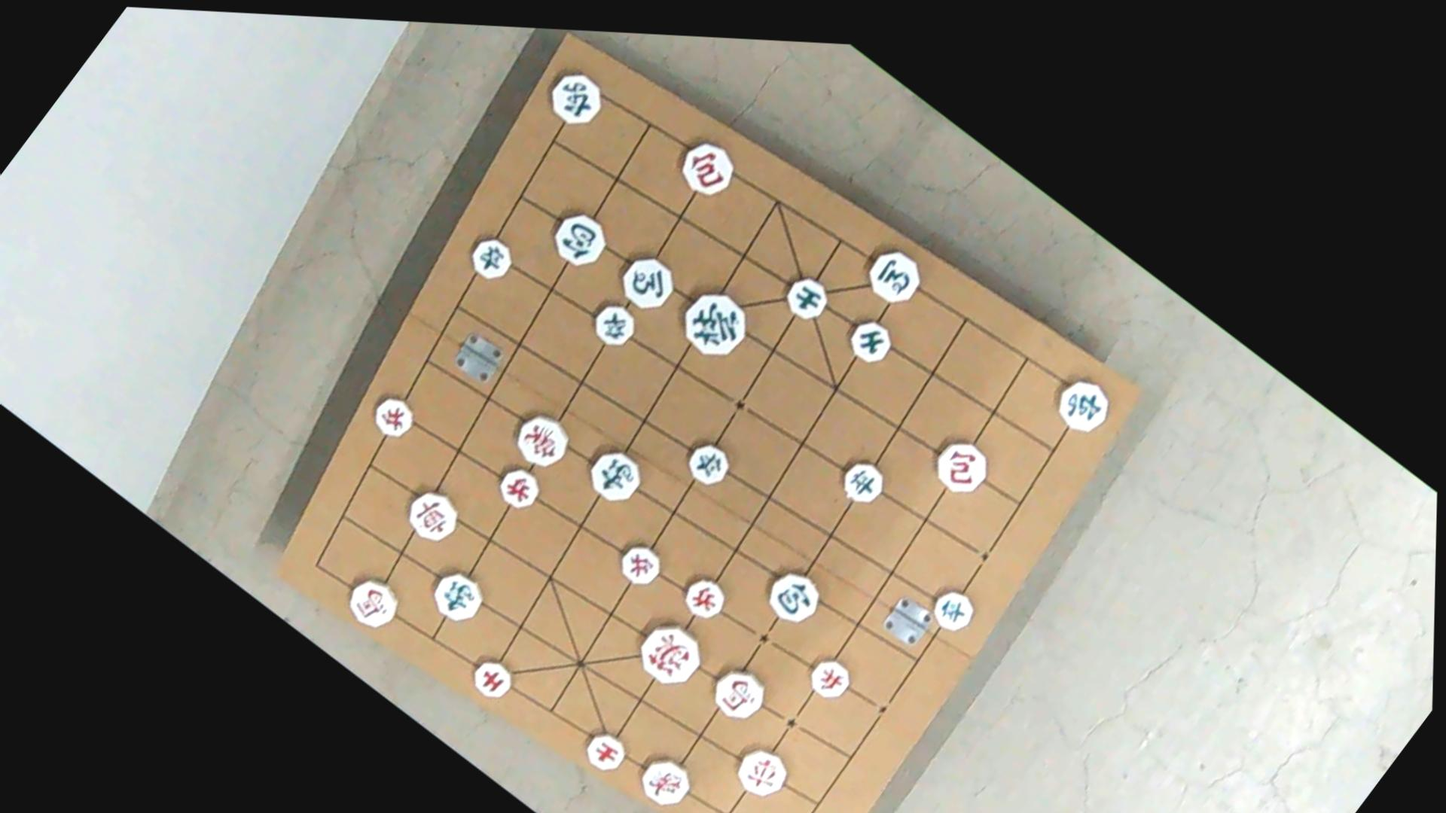cha_green: (541, 62, 611, 135), (1046, 367, 1116, 439)
cha_red: (398, 480, 466, 550), (729, 735, 794, 802)
jol_green: (833, 452, 889, 509), (587, 295, 642, 352), (465, 228, 520, 285), (681, 434, 736, 490), (925, 583, 979, 638)
jol_red: (612, 536, 666, 592), (369, 385, 423, 441), (493, 460, 547, 516), (677, 568, 731, 623), (802, 650, 855, 704)
ma_green: (859, 239, 929, 311), (612, 246, 680, 317)
ma_red: (706, 656, 773, 726), (341, 568, 407, 635)
po_green: (760, 561, 828, 632), (545, 202, 612, 271)
po_red: (674, 132, 746, 204), (929, 430, 998, 500)
sa_green: (844, 309, 900, 367), (779, 268, 834, 325)
sa_red: (578, 723, 630, 777), (468, 652, 520, 705)
sang_green: (579, 440, 646, 508), (426, 561, 492, 628)
sang_red: (505, 403, 578, 477), (633, 745, 698, 813)
wang_green: (672, 279, 756, 367)
wang_red: (628, 608, 710, 693)
